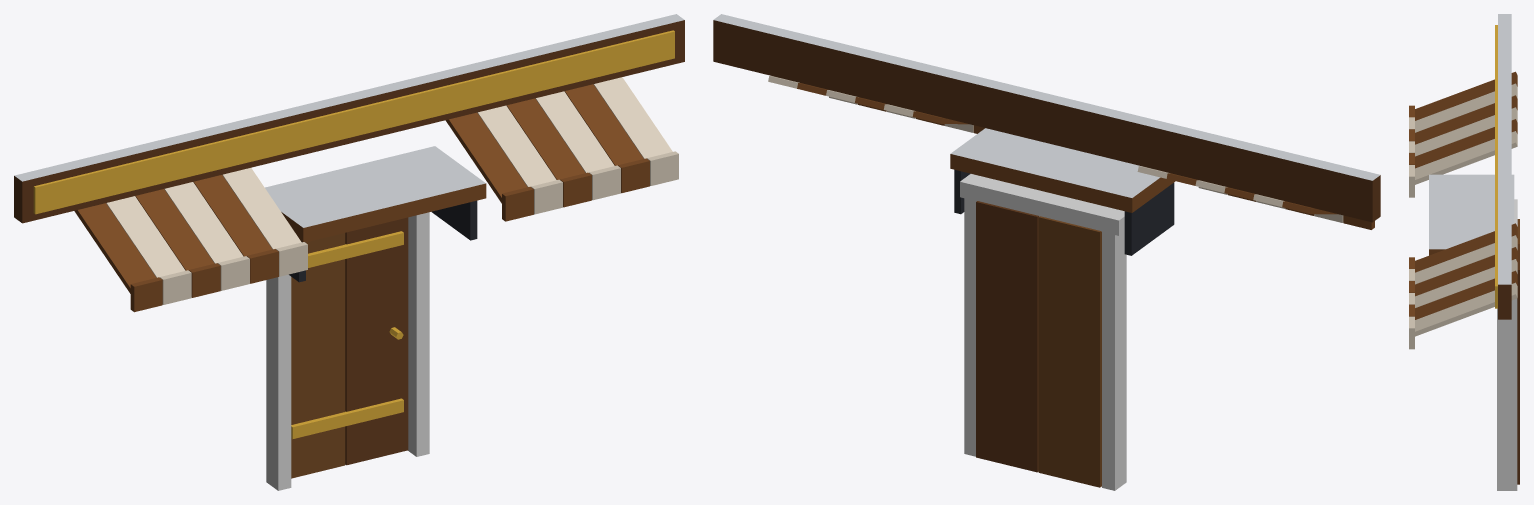
The model's file is Shop_Bakery_Shopfront.glb.
The picture shows the model from 3 angles, left to right: view 1: azimuth 30°, elevation 25°; view 2: azimuth 150°, elevation 25°; view 3: azimuth 270°, elevation 25°; orthographic projection. The views are drawn at different scales.
Visible parts, largest first — view 1: Shop_Bakery_Shopfront; view 2: Shop_Bakery_Shopfront; view 3: Shop_Bakery_Shopfront.
Part boxes in pixels (bbox=[...]): Shop_Bakery_Shopfront: bbox=[14, 14, 684, 490]; Shop_Bakery_Shopfront: bbox=[713, 14, 1380, 490]; Shop_Bakery_Shopfront: bbox=[1409, 14, 1519, 490].
Bounding box in the file's own units: 23.2 × 12.43 × 4.02.
